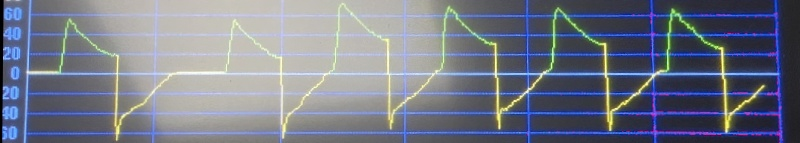normal_flow: (57, 0, 747, 143)
